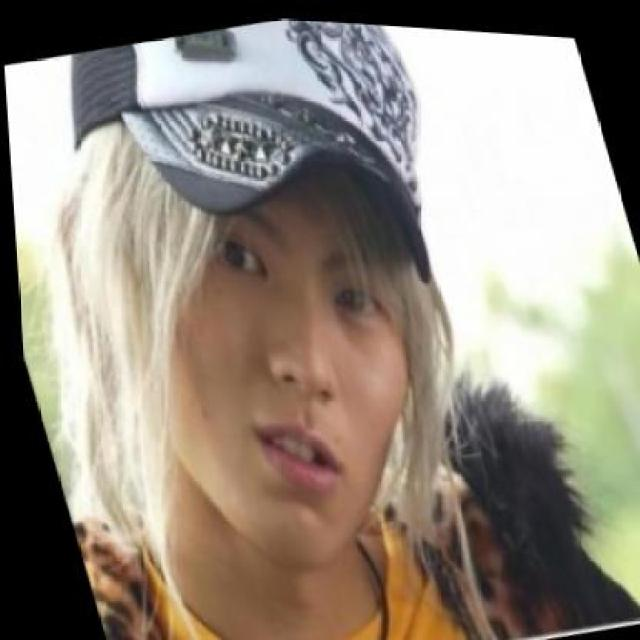hat: (71, 15, 432, 279)
